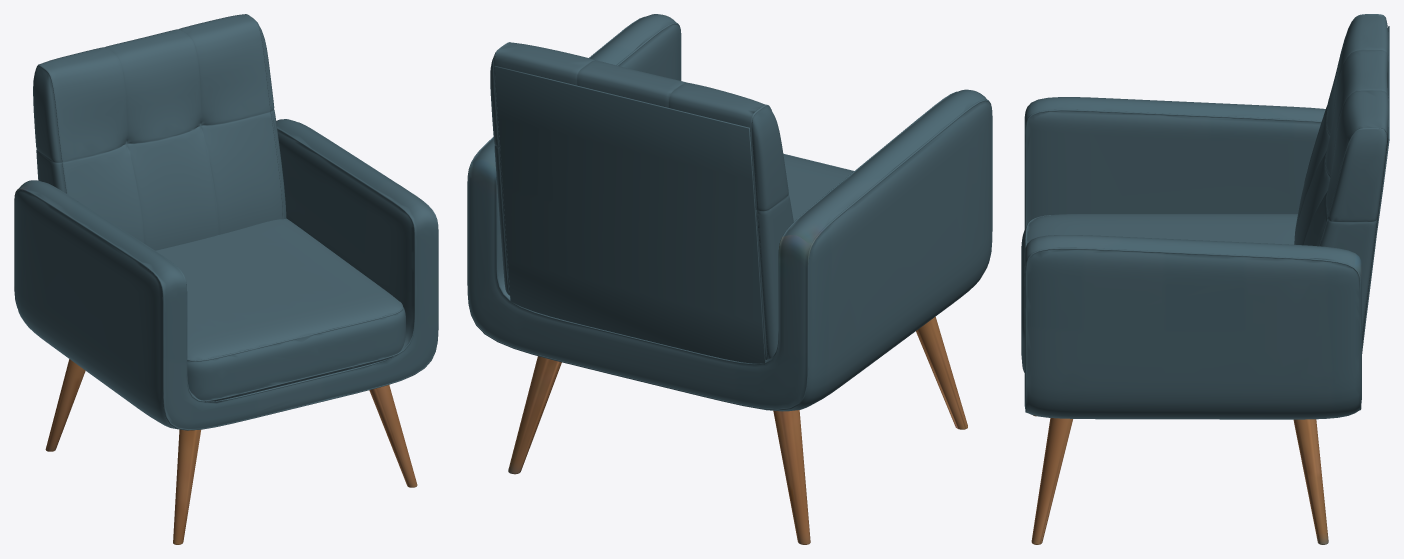
Rendered from lounge-chair.glb.
3 renders of one model, left to right at view 1: azimuth 30°, elevation 25°; view 2: azimuth 150°, elevation 25°; view 3: azimuth 270°, elevation 25°, orthographic. The views are drawn at different scales.
Visible parts, largest first — view 1: Plane.001; view 2: Plane.001; view 3: Plane.001.
Boxes of the visible parts, x1=… form: Plane.001: x1=14, y1=14, x2=438, y2=544; Plane.001: x1=467, y1=14, x2=992, y2=544; Plane.001: x1=1021, y1=14, x2=1389, y2=544.
Bounding box in the file's own units: 0.6994 × 0.86 × 0.7019.
Materials: 1 (1 with a texture image).
